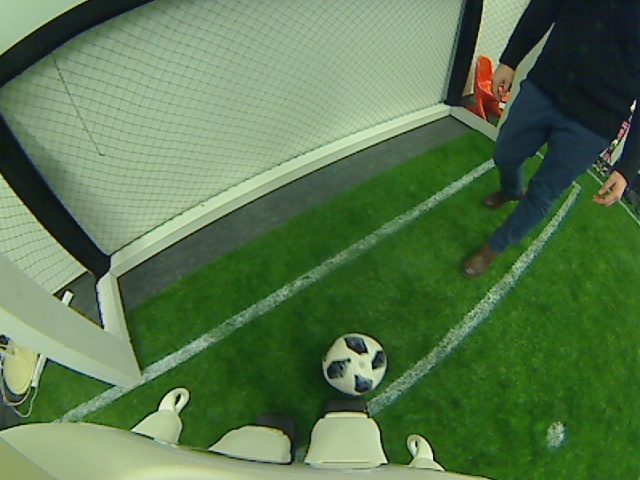ball: (320, 330, 389, 398)
